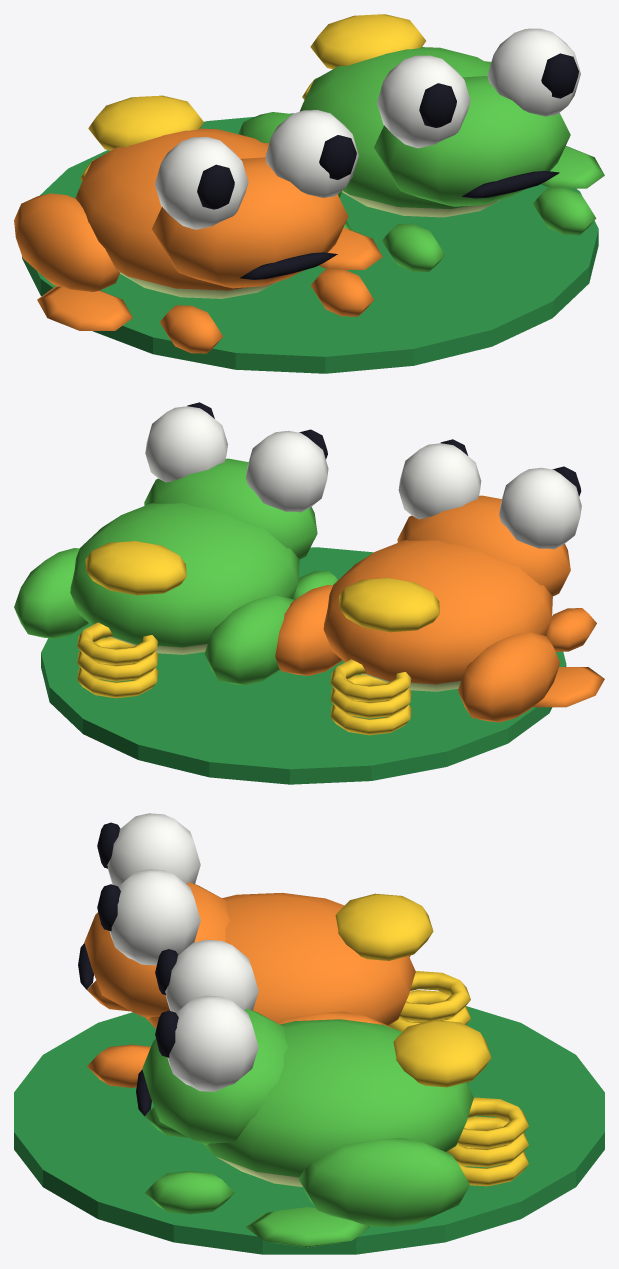
Rendered from Frogs.fbx.
3 views of the same model, one above another, from view 1: azimuth 30°, elevation 25°; view 2: azimuth 150°, elevation 25°; view 3: azimuth 270°, elevation 25° (orthographic). The views are drawn at different scales.
Visible parts, largest first — view 1: Frogs; view 2: Frogs; view 3: Frogs.
Boxes of the visible parts, bbox=[...] form: Frogs: bbox=[14, 14, 604, 373]; Frogs: bbox=[14, 402, 604, 784]; Frogs: bbox=[14, 813, 604, 1254].
Size of the model in its own units: 0.1426 by 0.0501 by 0.1225.
